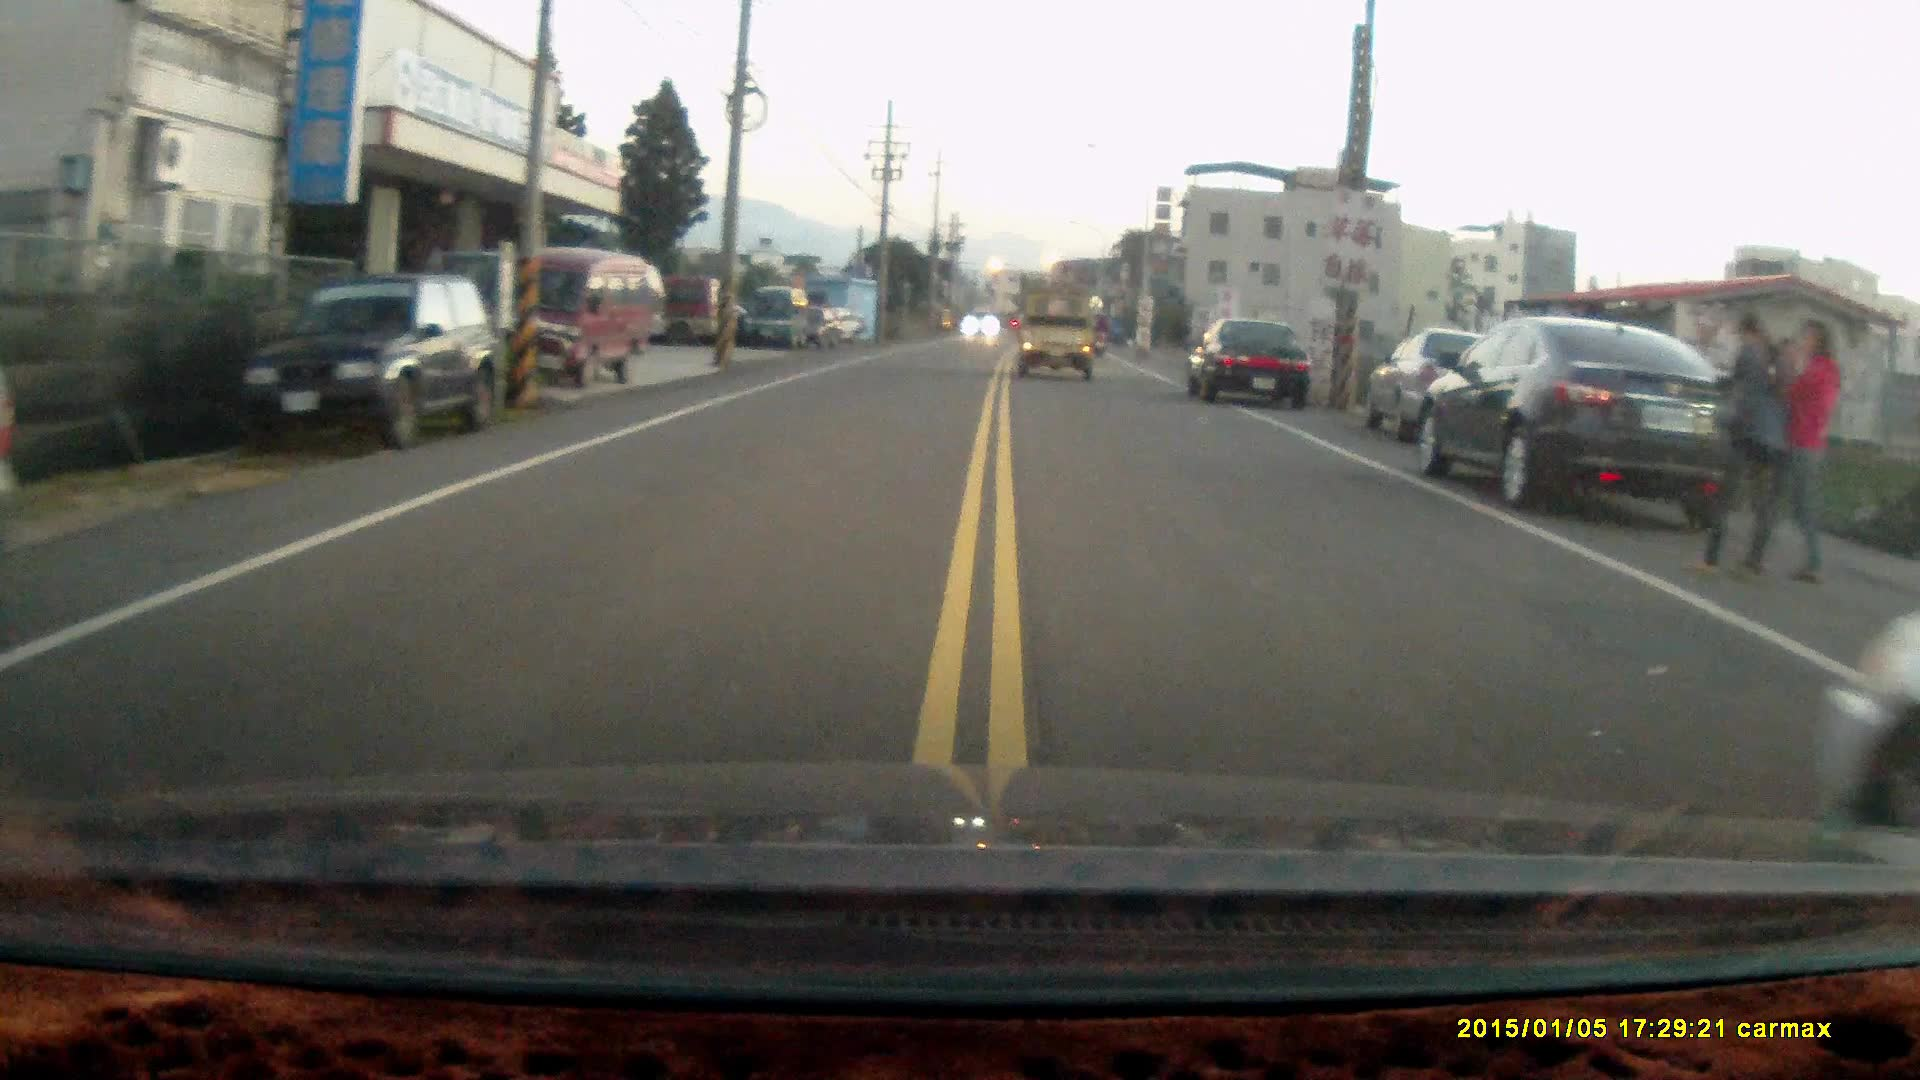pedestrian: (1692, 309, 1787, 580), (1764, 316, 1839, 582)
vehicle: (1415, 317, 1775, 526), (246, 267, 503, 453), (484, 248, 665, 383), (1360, 329, 1506, 442), (1182, 310, 1314, 408), (1017, 291, 1100, 380), (740, 284, 812, 350)
